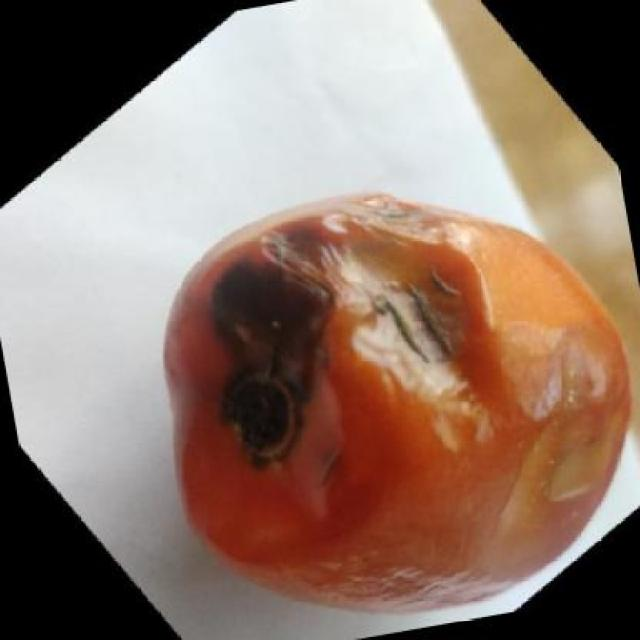overripe tomato: (146, 180, 640, 619)
